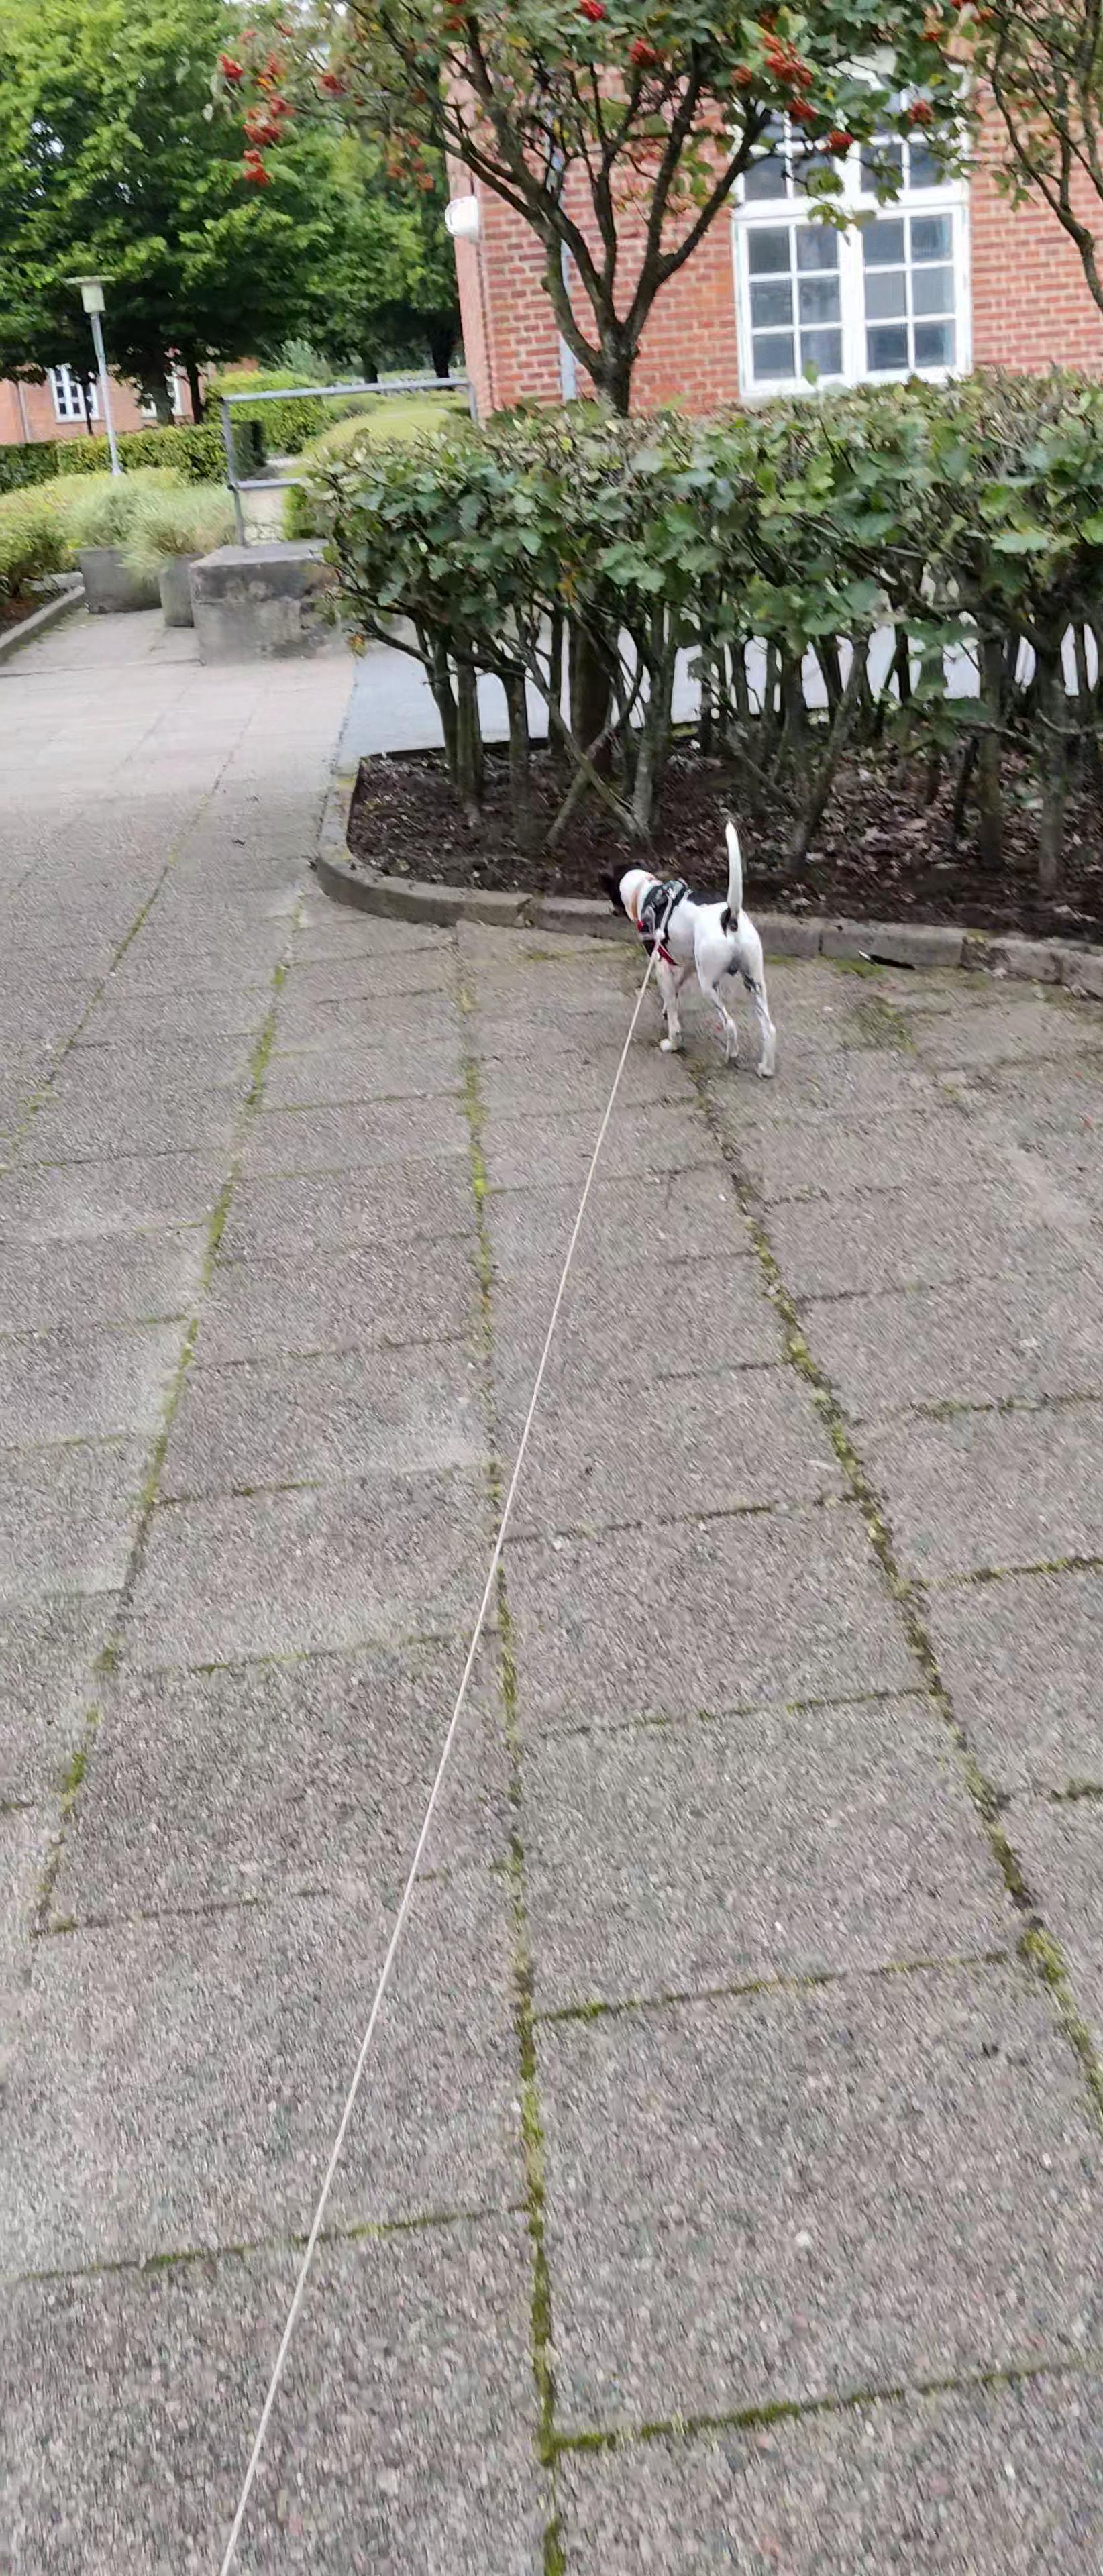Dog: (592, 818, 781, 1081)
